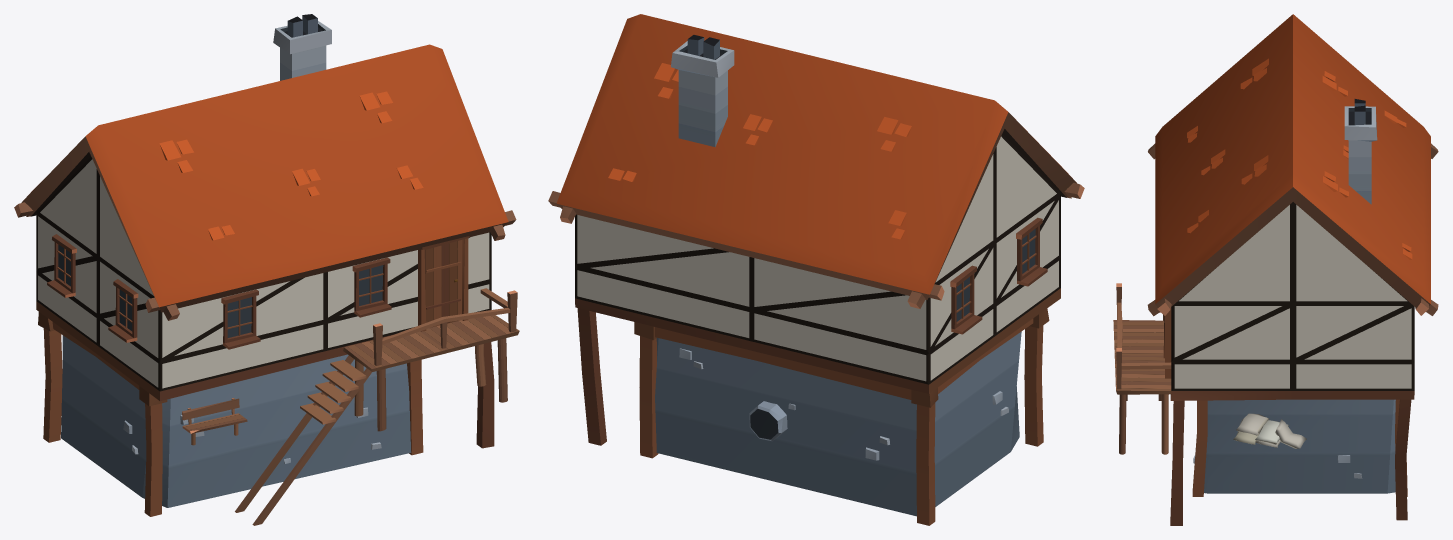
Rendered from House.glb.
3 renders of one model, left to right at view 1: azimuth 30°, elevation 25°; view 2: azimuth 150°, elevation 25°; view 3: azimuth 270°, elevation 25°, orthographic. The views are drawn at different scales.
Visible parts, largest first — view 1: Scene.1820; view 2: Scene.1820; view 3: Scene.1820.
Part boxes in pixels (x1=…): Scene.1820: x1=14, y1=14, x2=519, y2=525; Scene.1820: x1=548, y1=14, x2=1084, y2=525; Scene.1820: x1=1113, y1=14, x2=1438, y2=525.
Bounding box in the file's own units: 9.87 × 9.87 × 7.74.
Materials: 2 (2 with a texture image).
